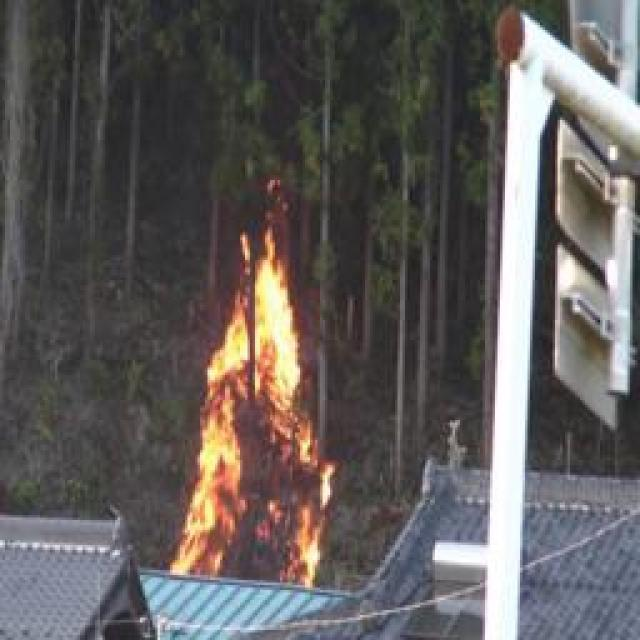Fire: (175, 222, 327, 596)
